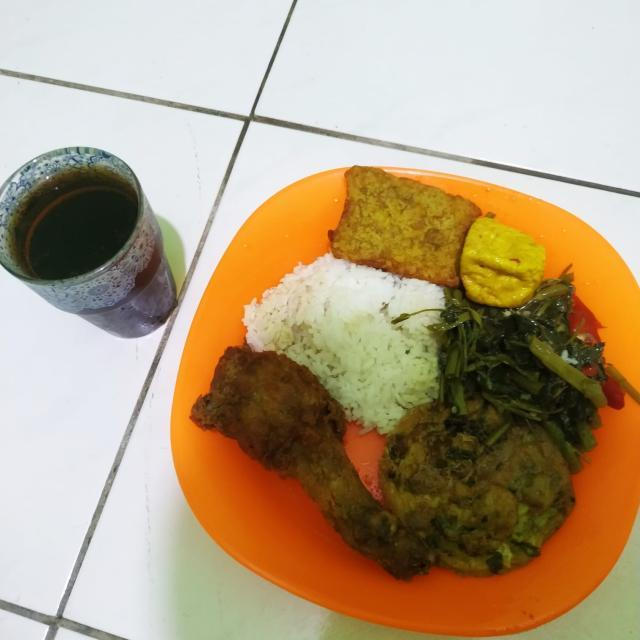ayam_goreng: (178, 328, 418, 558)
nasi_putih: (243, 234, 464, 403)
